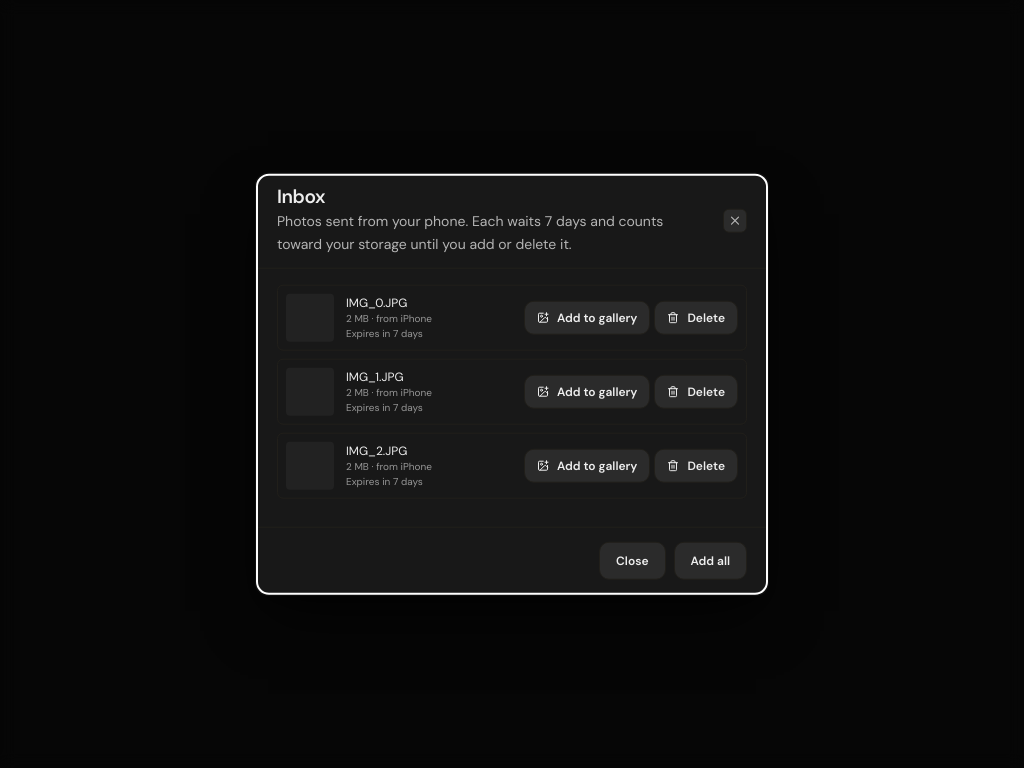
Test: editor: the Inbox › Add all runs the registered import once with all three, then receives each
Expected: the text "Expires in 7 days" is shown 3 times, [346, 326, 423, 339]; [346, 400, 423, 413]; [346, 474, 423, 487]
Expected: the text "2 MB · from iPhone" is shown 3 times, [346, 311, 432, 324]; [346, 385, 432, 398]; [346, 459, 432, 472]
Click the button "Add all" at (710,560), box [674, 541, 747, 579]
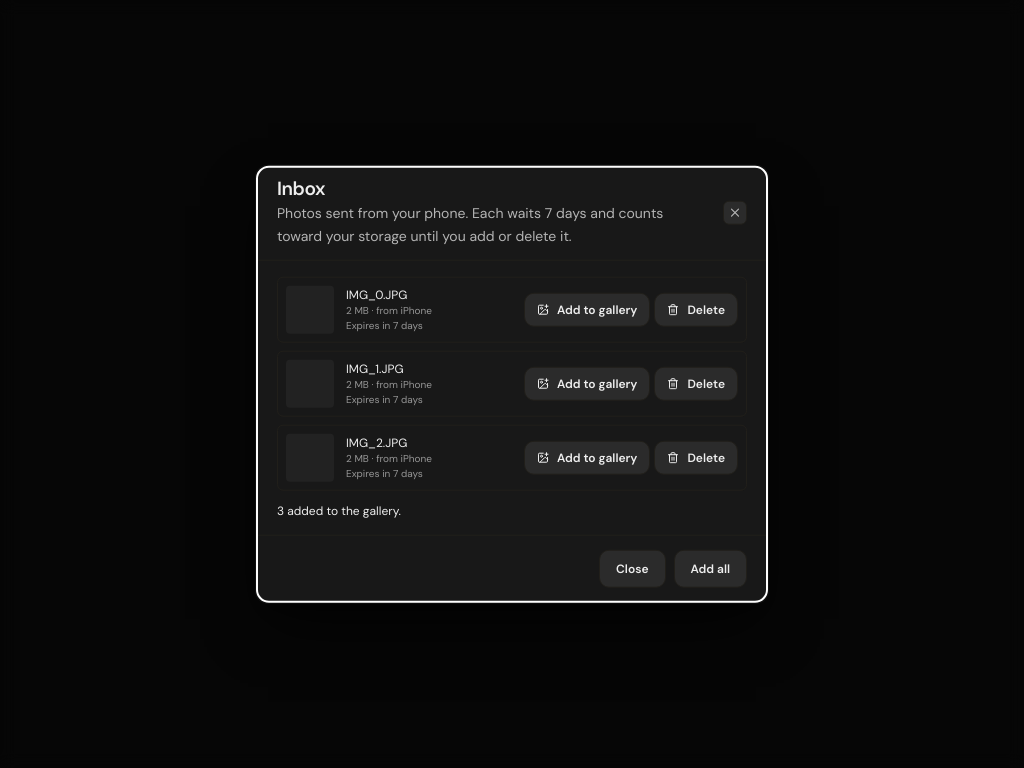
Expected: the text "3 added to the gallery." is shown, [277, 502, 401, 518]
